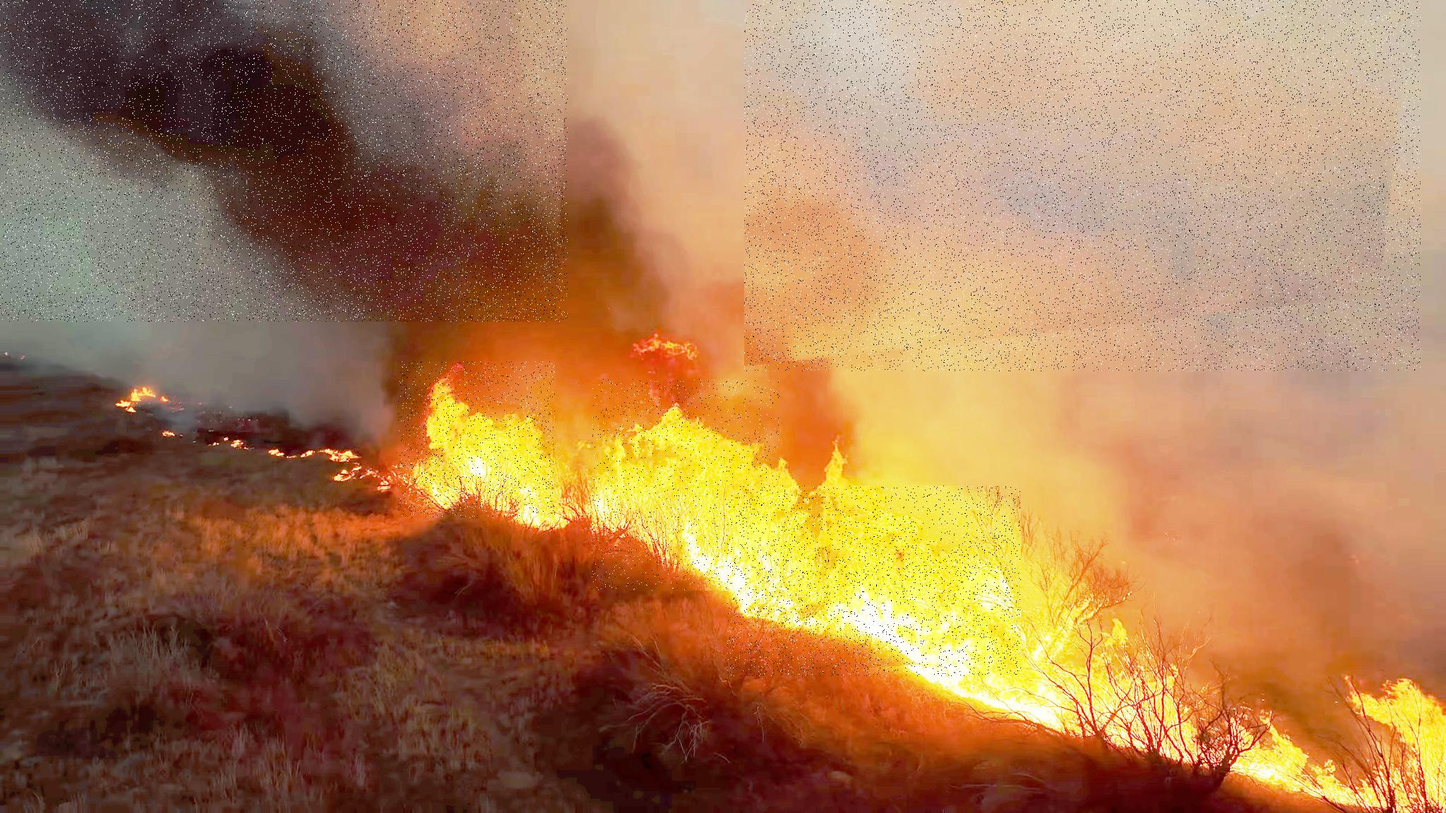fire: (727, 486, 1021, 676), (592, 379, 780, 591), (398, 361, 555, 518)
smoke: (744, 0, 1421, 371), (0, 0, 568, 322)
